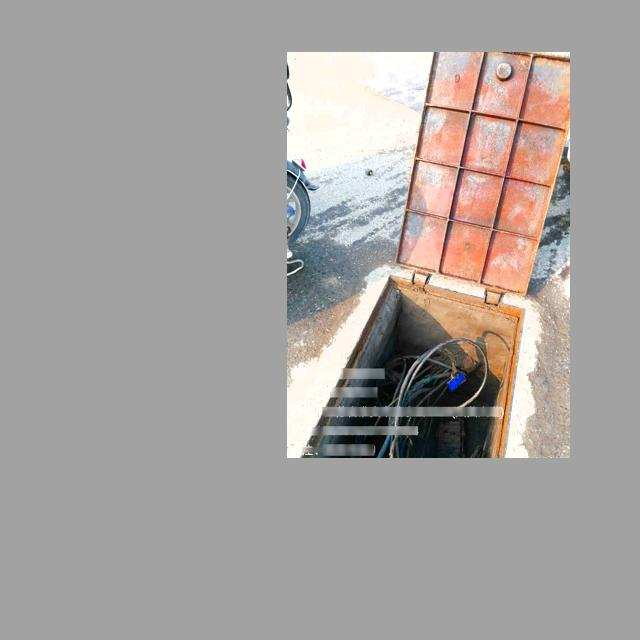uncovered: (290, 54, 570, 451)
